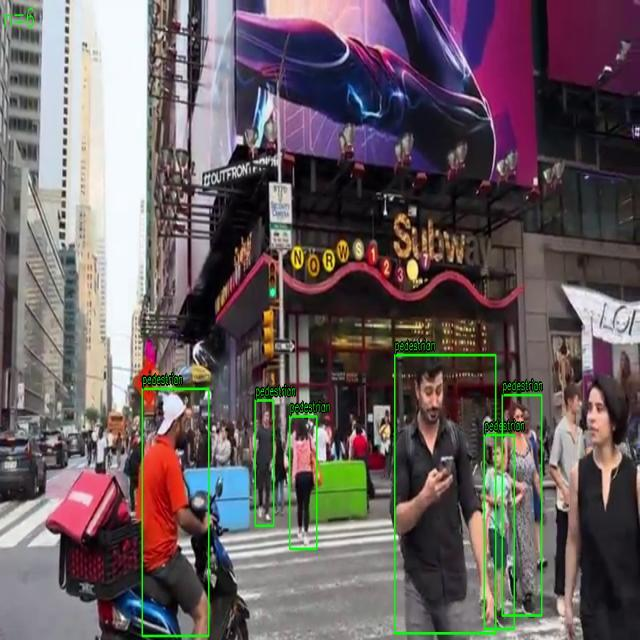with scooter: (394, 354, 496, 634), (142, 388, 209, 636), (502, 394, 542, 616), (484, 434, 514, 630), (289, 416, 317, 550), (255, 400, 274, 526)
